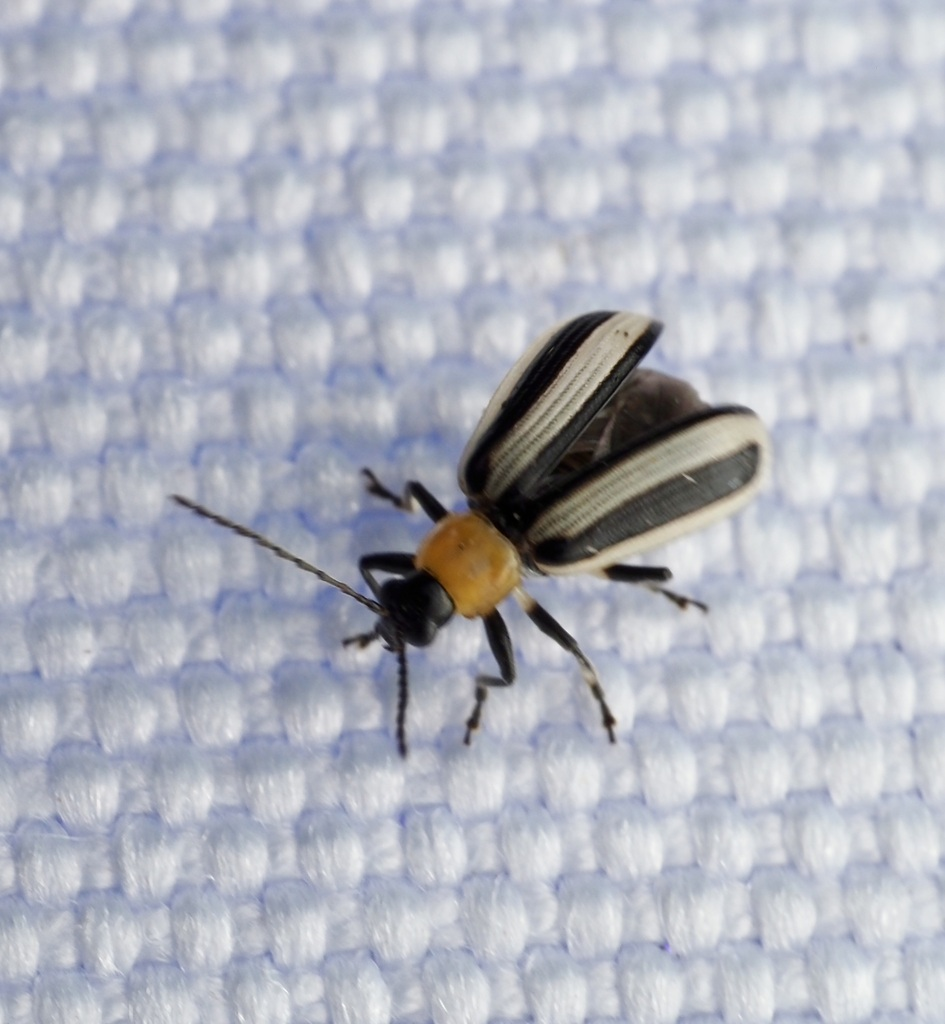potato_beetle: (102, 198, 867, 844)
